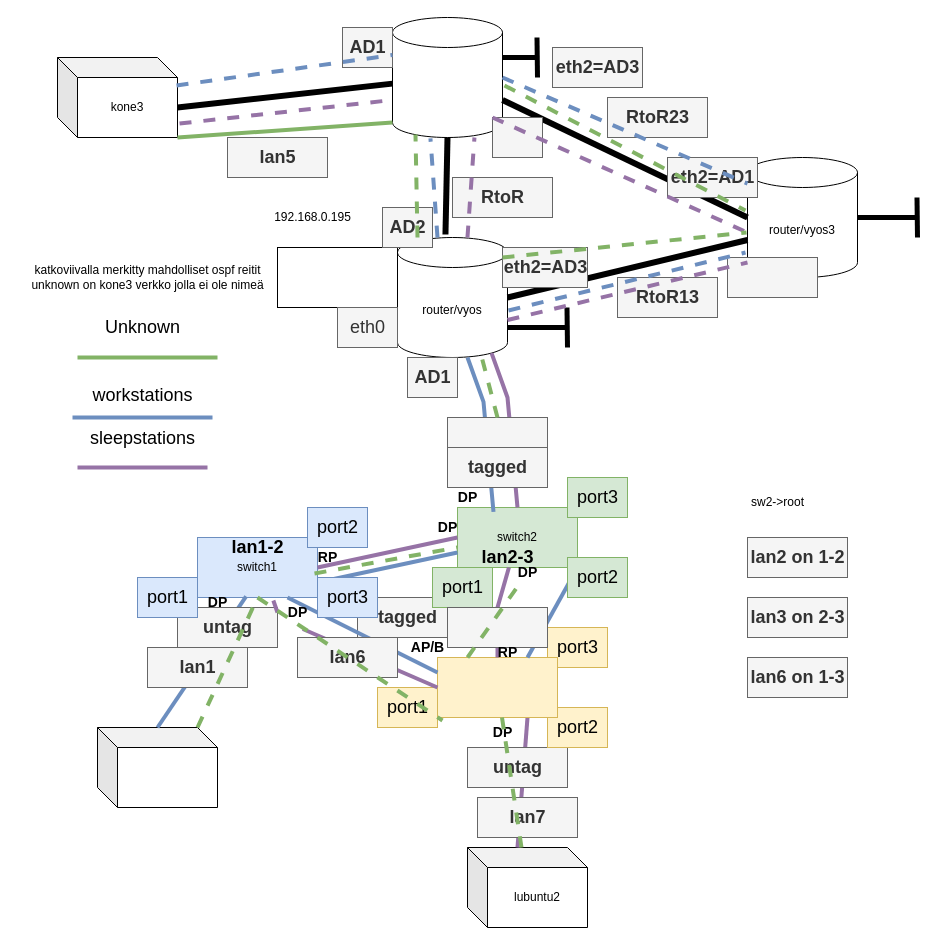
Some shapes in this 938 by 945 pixel diagram are drawn without their labels. Here are the shapes that lost their labels. From the top down, the centre of each, then its label:
At (447,77): "router/vyos2".
At (517,137): "AD3".
At (337,277): "08:00:27:f6:24:03 eth0".
At (772,277): "eth3=AD2".
At (497,437): "lan4".
At (497,627): "lan3".
At (497,687): "switch3".
At (157,767): "lubuntu1".
